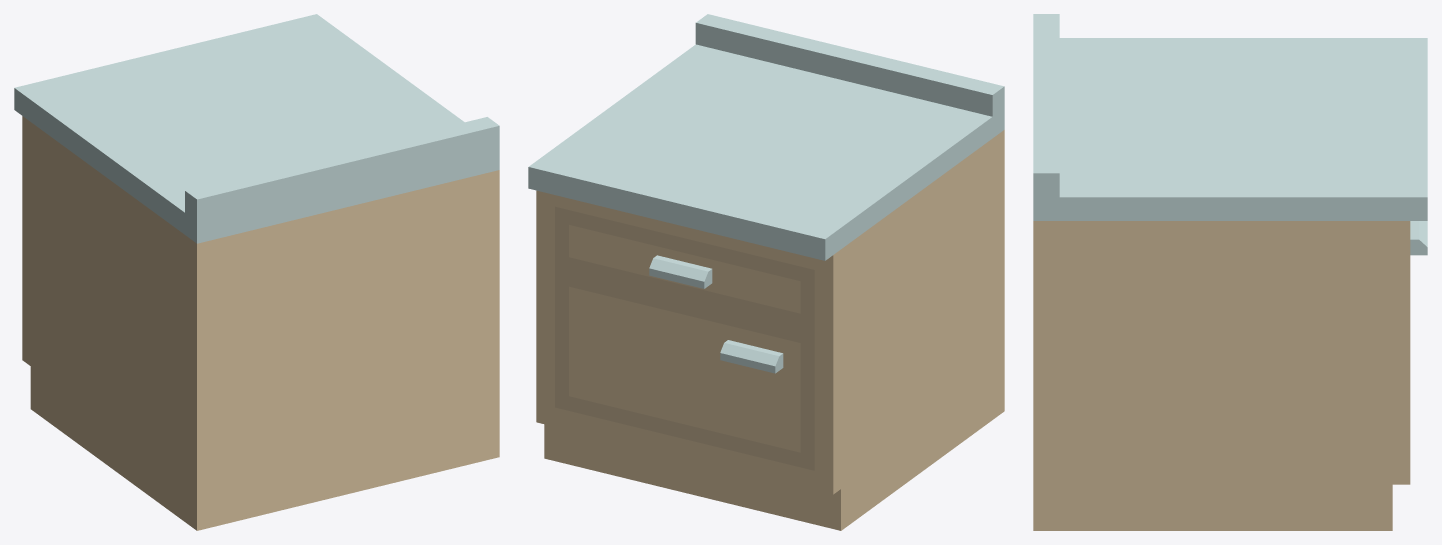
Rendered from kitchenCabinetDrawer 1.glb.
The picture shows the model from 3 angles, left to right: view 1: azimuth 30°, elevation 25°; view 2: azimuth 150°, elevation 25°; view 3: azimuth 270°, elevation 25°; orthographic projection. The views are drawn at different scales.
Parts seen in each view (by area): view 1: kitchenCabinetDrawer 1; view 2: kitchenCabinetDrawer 1; view 3: kitchenCabinetDrawer 1.
Part boxes in pixels (bbox=[...]): kitchenCabinetDrawer 1: bbox=[14, 14, 499, 530]; kitchenCabinetDrawer 1: bbox=[528, 14, 1004, 530]; kitchenCabinetDrawer 1: bbox=[1033, 14, 1427, 530].
Size of the model in its own units: 4.3 by 4.5 by 4.5.
